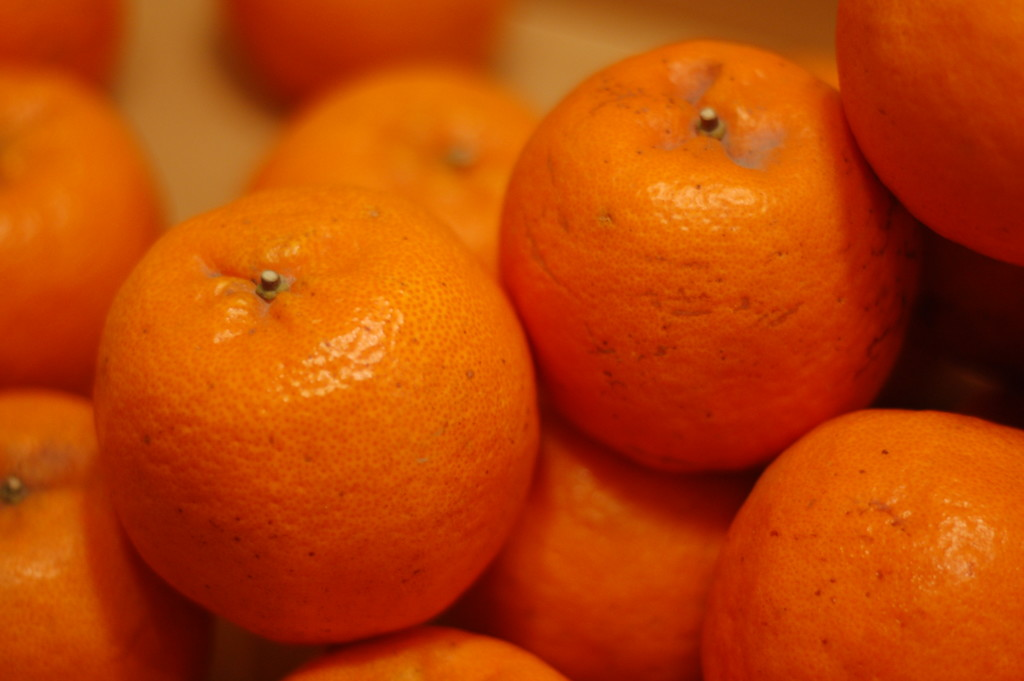Ripe: (0, 0, 1023, 680)
